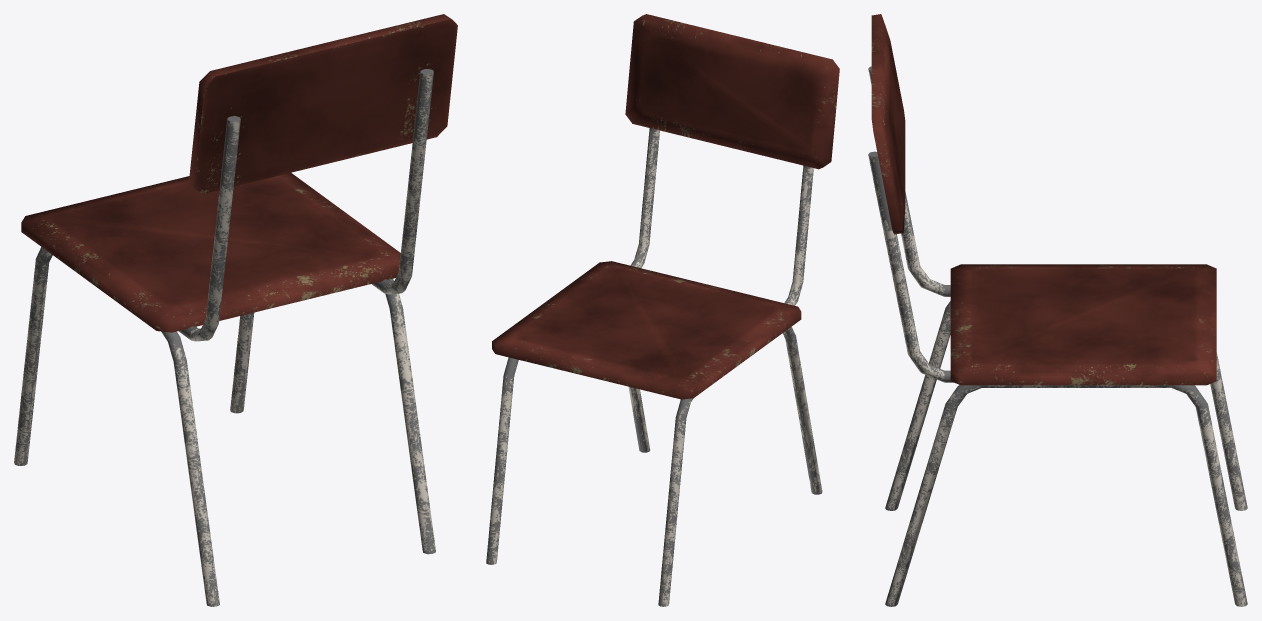
The model's file is Chairleather_AA.fbx.
3 views of the same model, side by side, from view 1: azimuth 30°, elevation 25°; view 2: azimuth 150°, elevation 25°; view 3: azimuth 270°, elevation 25° (orthographic). The views are drawn at different scales.
Visible parts, largest first — view 1: Chairleather_AA; view 2: Chairleather_AA; view 3: Chairleather_AA.
Boxes of the visible parts, bbox=[...] form: Chairleather_AA: bbox=[14, 14, 457, 606]; Chairleather_AA: bbox=[486, 14, 839, 606]; Chairleather_AA: bbox=[868, 14, 1247, 606].
Size of the model in its own units: 0.4974 by 0.7099 by 1.01.
Materials: 1 (1 with a texture image).
